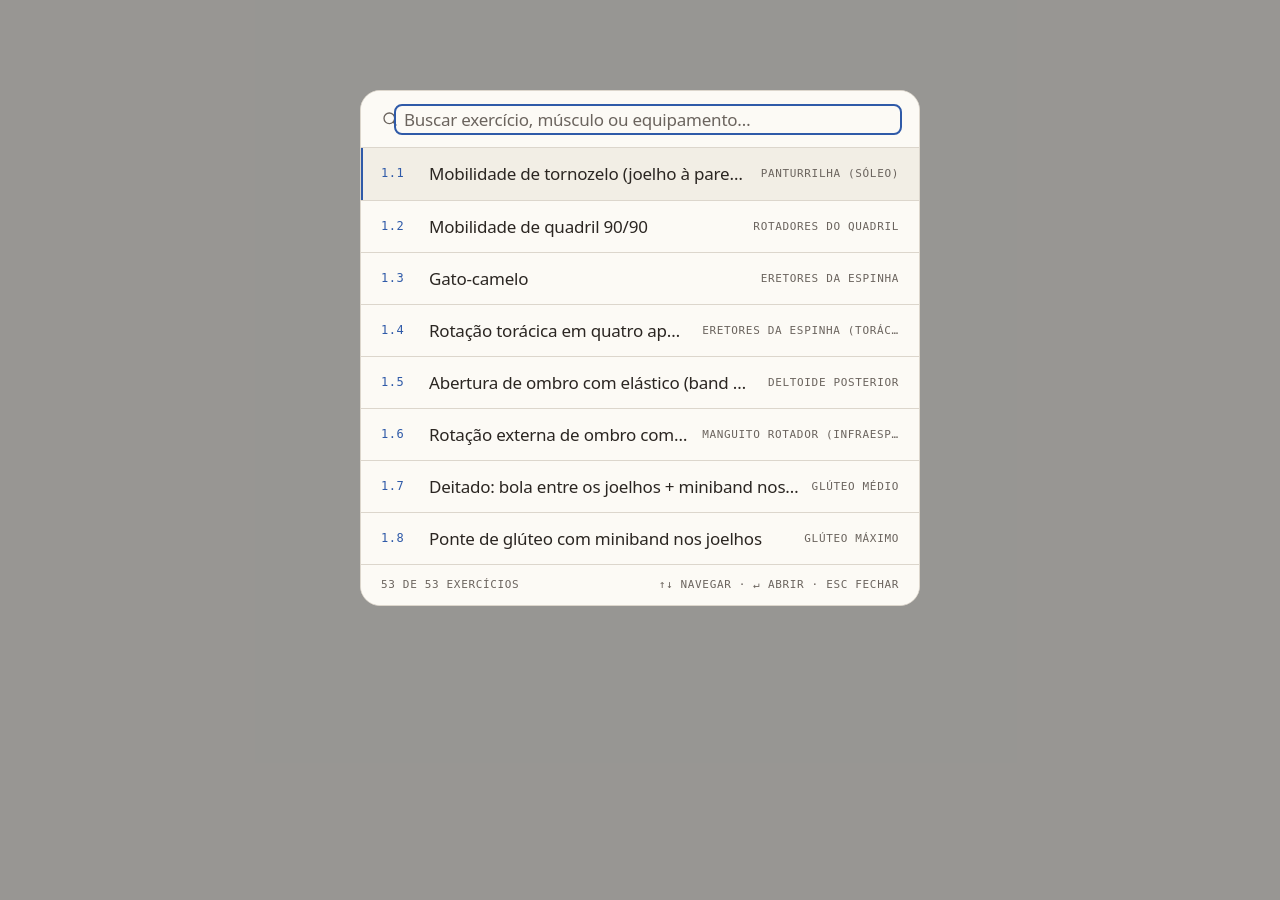
Test case: Busca › filtra por nome do exercício
The width and height of the screenshot is (1280, 900).
Type "agacha" into the dropdown at (648, 119), box [398, 108, 898, 130]
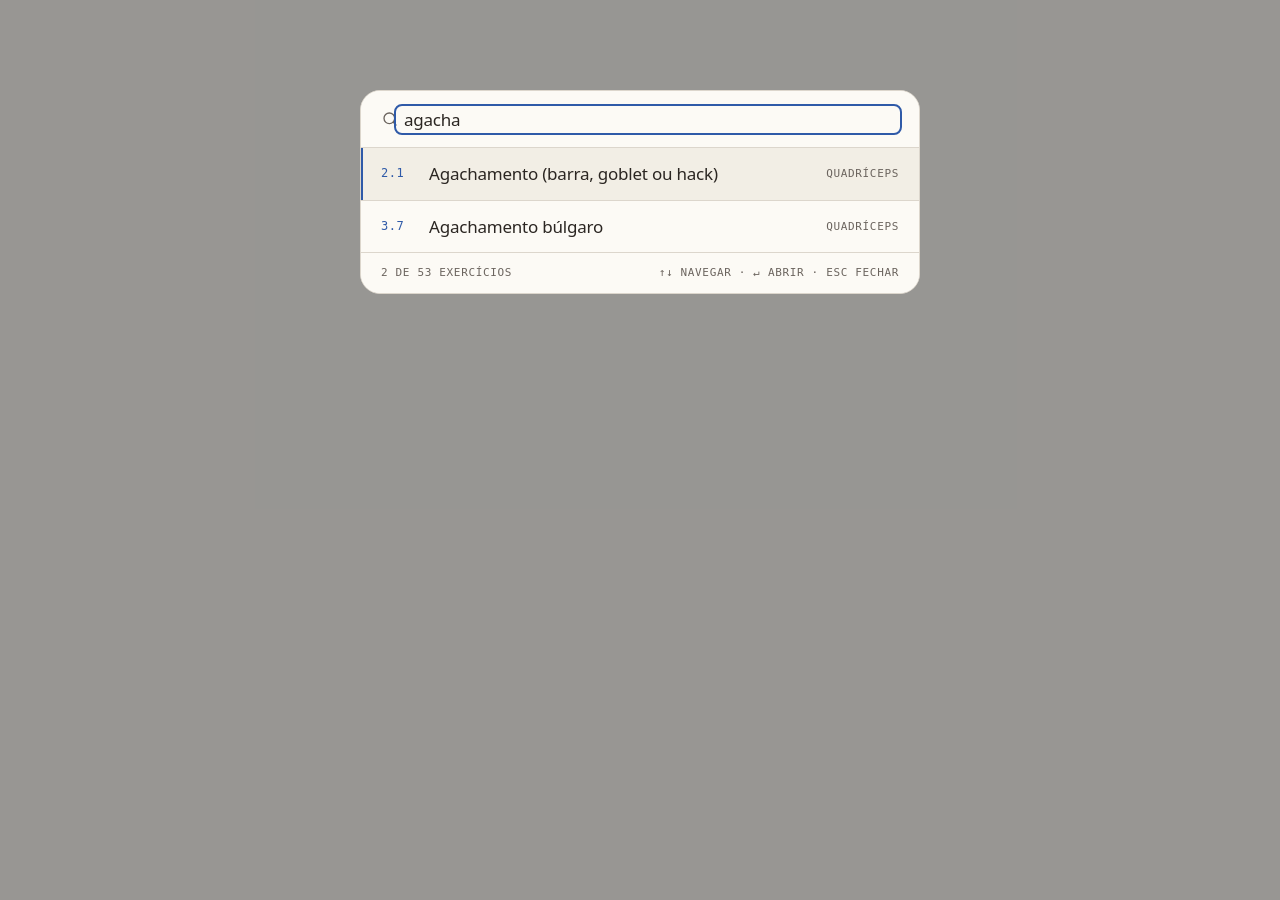
Expected: the text "Agachamento (barra, goblet ou hack)" is shown, [429, 162, 718, 185]
